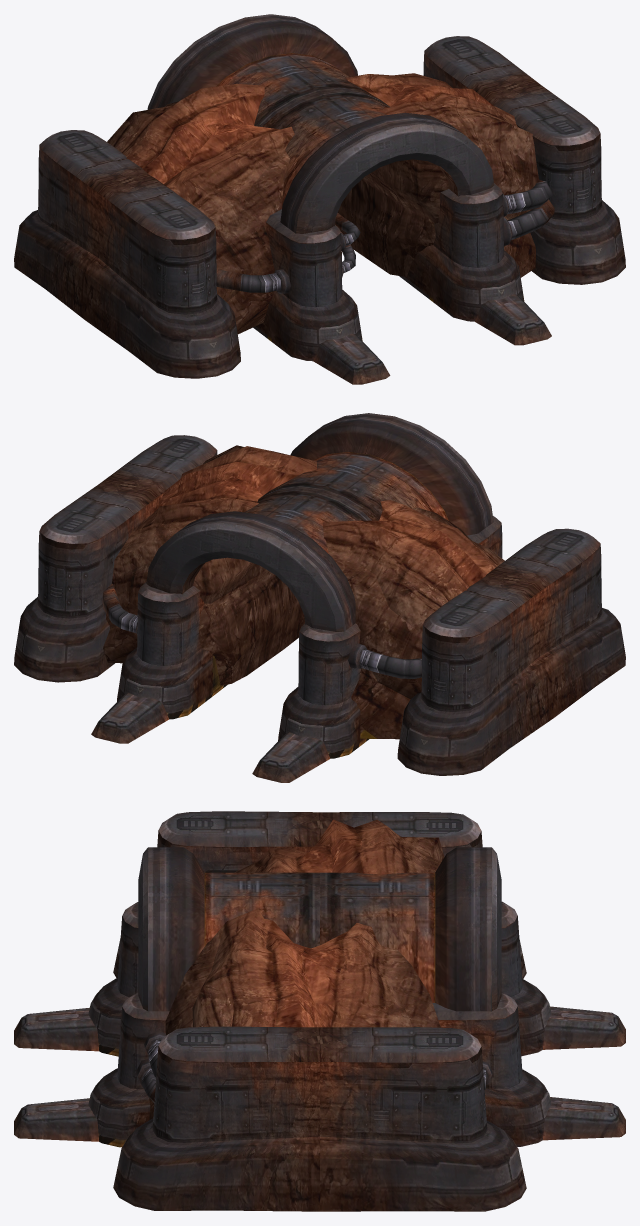
The model's file is marsaratunnel.fbx.
The picture shows the model from 3 angles, top to bottom: view 1: azimuth 30°, elevation 25°; view 2: azimuth 150°, elevation 25°; view 3: azimuth 270°, elevation 25°; orthographic projection. The views are drawn at different scales.
Parts seen in each view (by area): view 1: Geoset_0; view 2: Geoset_0; view 3: Geoset_0.
Part boxes in pixels (x1=…): Geoset_0: x1=14, y1=14, x2=625, y2=384; Geoset_0: x1=14, y1=413, x2=625, y2=782; Geoset_0: x1=14, y1=811, x2=625, y2=1211.
Size of the model in its own units: 5.19 by 2.03 by 5.11.
Materials: 1 (1 with a texture image).
